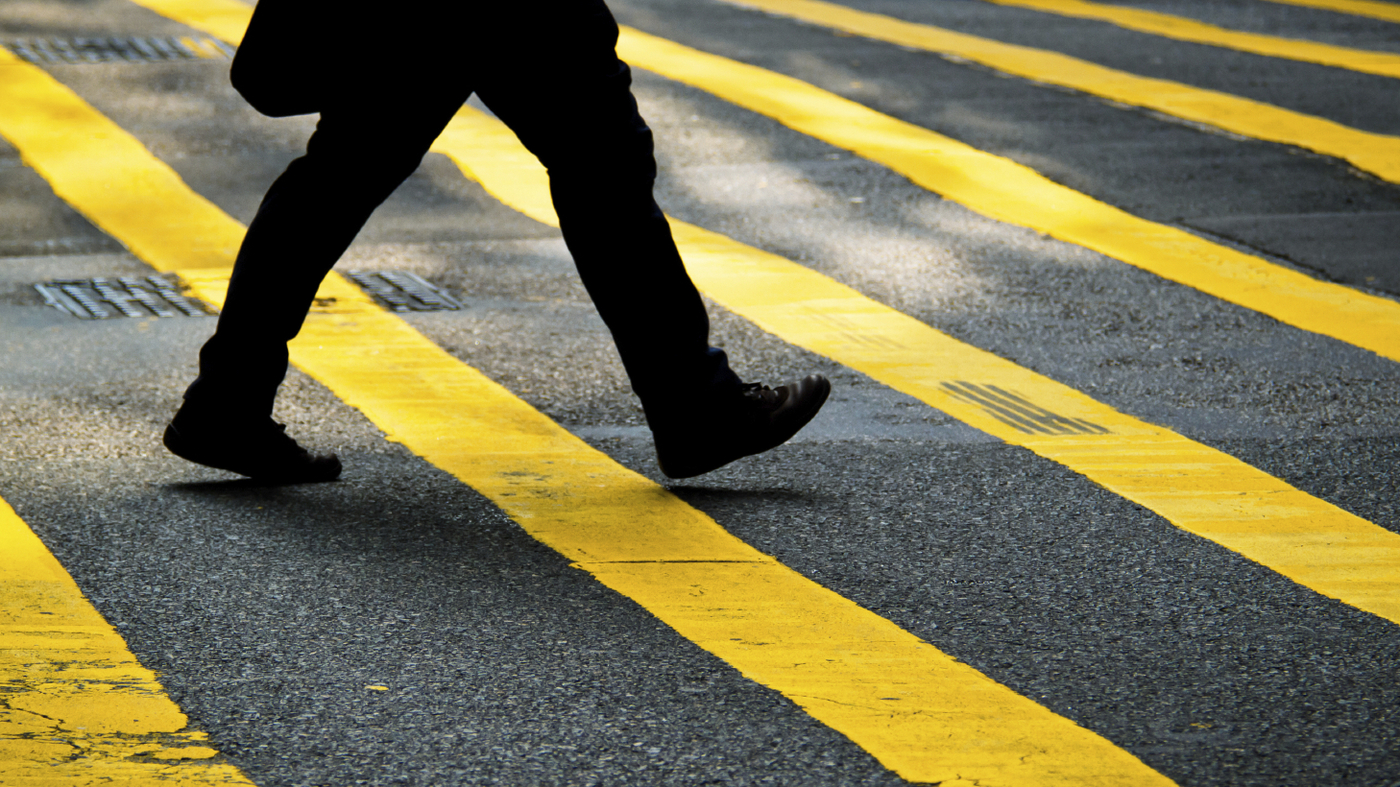feet: (151, 305, 859, 503)
